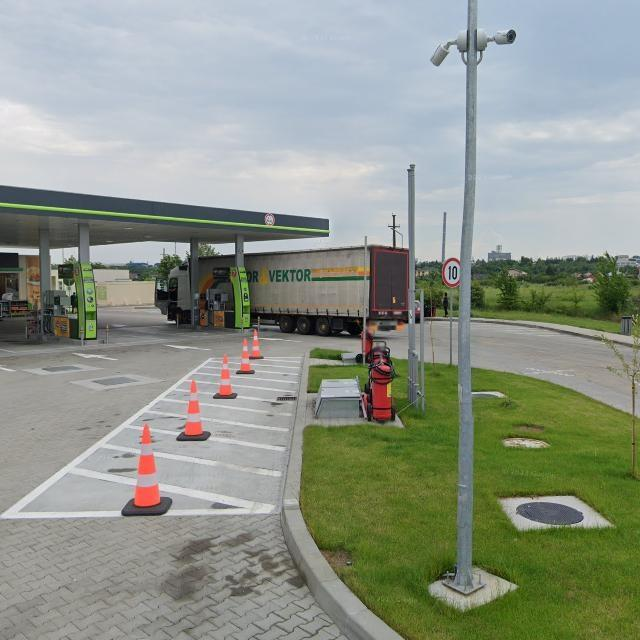forb_speed_over_10: (442, 258, 460, 288)
